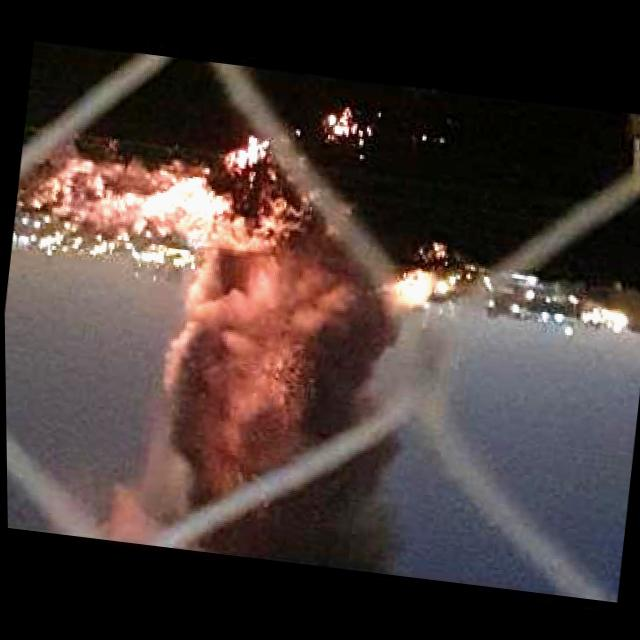Fire: (136, 167, 227, 231), (215, 132, 273, 176), (316, 104, 360, 142)
Smoke: (150, 216, 393, 580)
